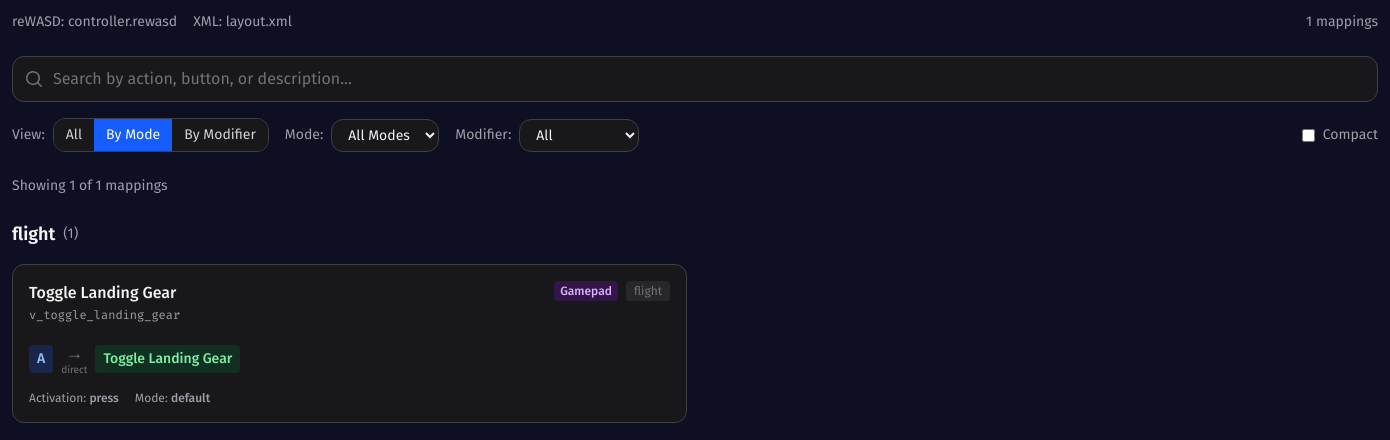
it: MappingBrowser › empty state › shows empty state when filters exclude all
The image size is (1390, 440).
Note: Filter to on-foot mode (no mappings)
Select "on-foot" in the 1st dropdown showing "All Modes" at (385, 135), box top-left (331, 118), bottom-right (439, 152)
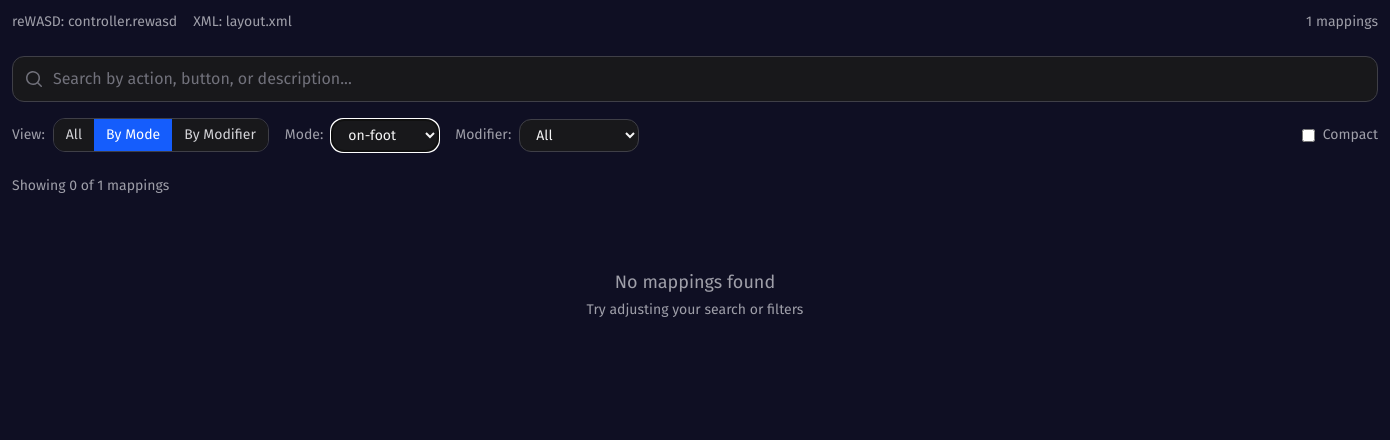
Expected: the text "No mappings found" is shown, top-left (615, 271), bottom-right (775, 293)
